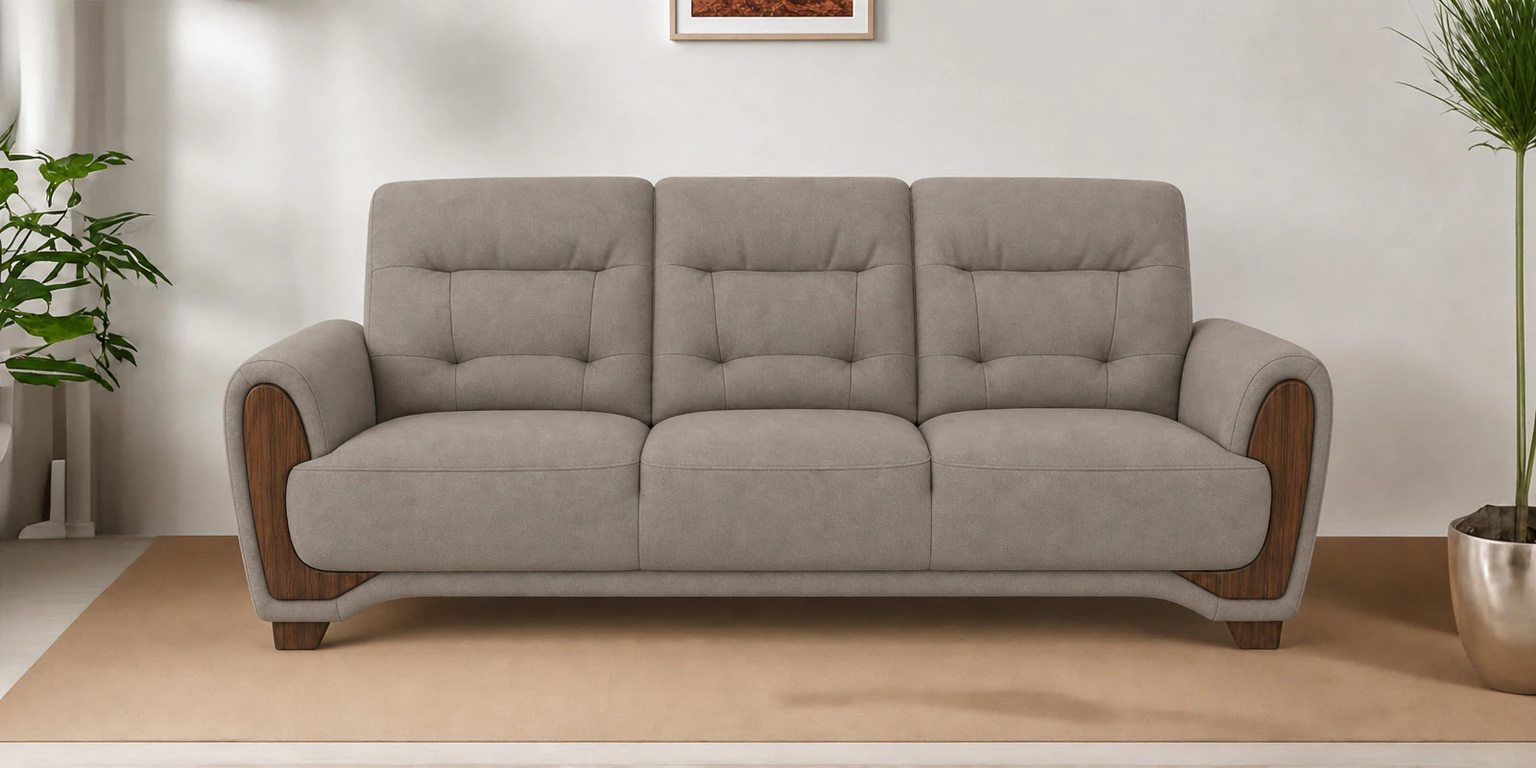3seatersofa: (227, 178, 1332, 649)
backrest: (653, 178, 1192, 420)
base: (325, 568, 1225, 621)
leftarmrest: (1178, 319, 1332, 618)
leg: (275, 622, 328, 650), (1228, 622, 1282, 649)
rightarmrest: (226, 320, 375, 618)
seat: (288, 409, 1268, 574)
